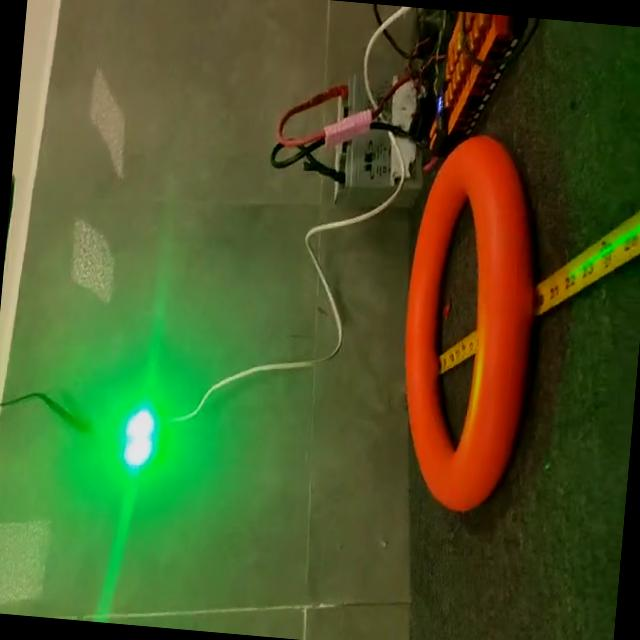note: (388, 129, 548, 521)
